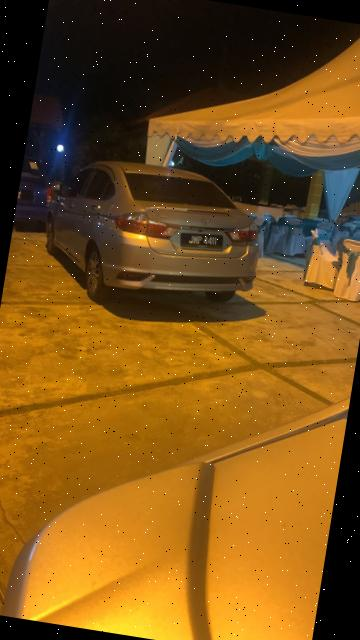License_Plate: (178, 230, 228, 260)
car: (32, 145, 276, 327)
